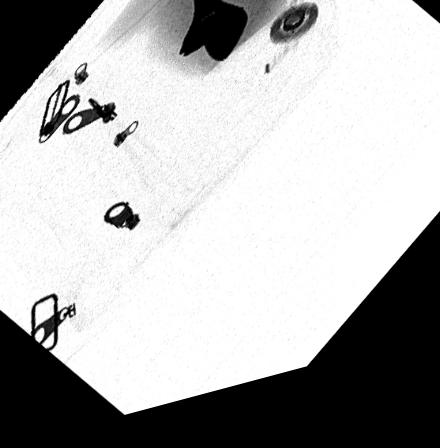Wrench: (178, 0, 249, 73)
